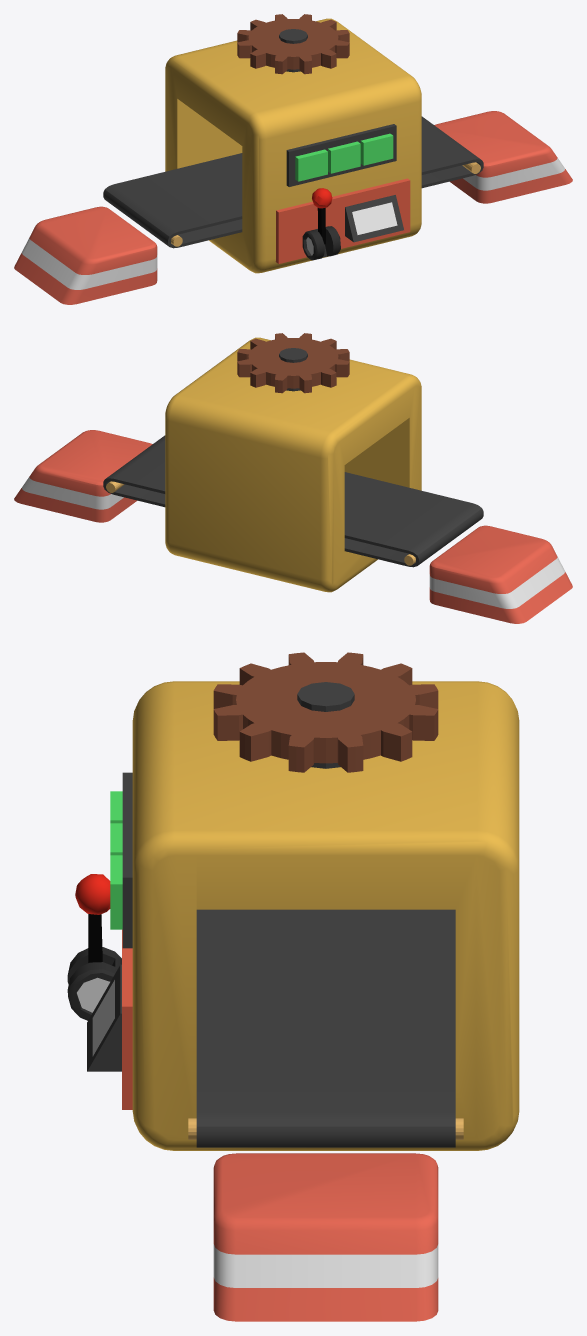
File: makina1.fbx
3 renders of one model, top to bottom at view 1: azimuth 30°, elevation 25°; view 2: azimuth 150°, elevation 25°; view 3: azimuth 270°, elevation 25°, orthographic. The views are drawn at different scales.
Visible parts, largest first — view 1: govde, stack, palet, cark, kolalt, kol; view 2: govde, stack, palet, cark; view 3: govde, palet, stack, cark, kolalt, kol.
Part boxes in pixels (box(x1,y1,x2,y2)): govde: box(165, 18, 421, 273); stack: box(14, 111, 572, 304); palet: box(103, 116, 483, 248); cark: box(237, 14, 349, 74); kolalt: box(302, 226, 340, 260); kol: box(312, 188, 332, 244); govde: box(165, 337, 421, 592); stack: box(14, 430, 572, 623); palet: box(103, 435, 483, 567); cark: box(237, 333, 349, 393); govde: box(87, 681, 519, 1150); palet: box(188, 909, 463, 1147); stack: box(213, 1153, 438, 1321); cark: box(213, 652, 438, 772); kolalt: box(67, 947, 121, 1020); kol: box(75, 874, 110, 962).
Bounding box in the file's own units: 611 × 218 × 234.
